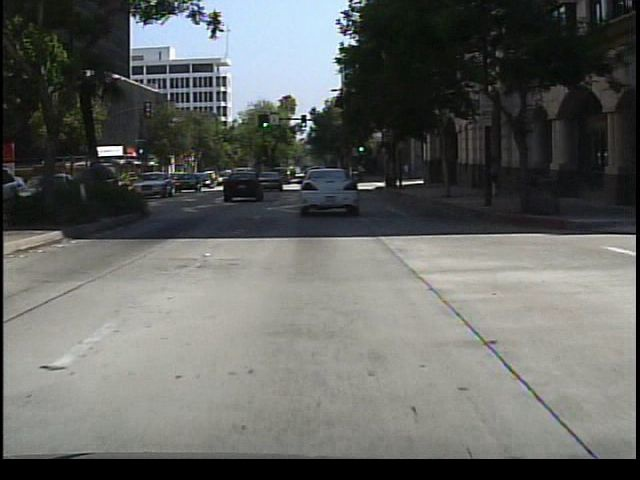person: (484, 154, 504, 203)
